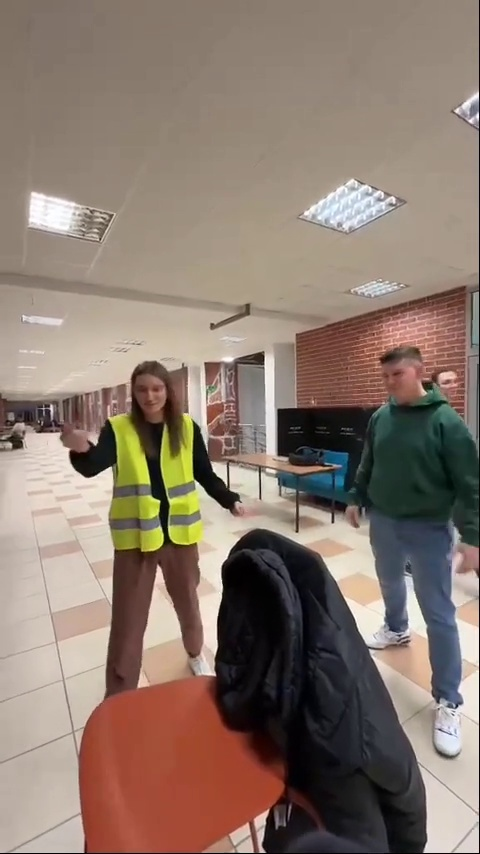no vest: (352, 337, 480, 752)
vest: (84, 354, 238, 681)
